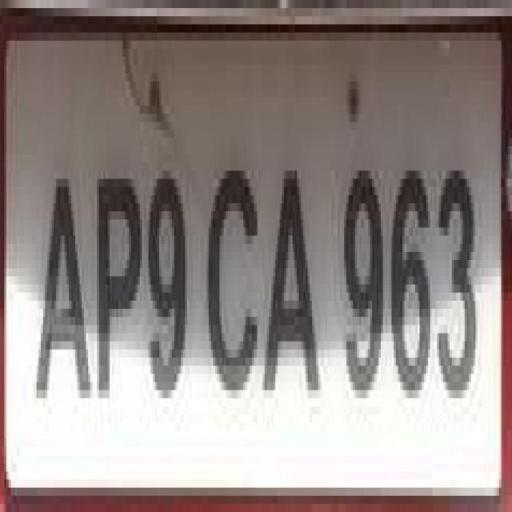number plate: (23, 16, 512, 479)
